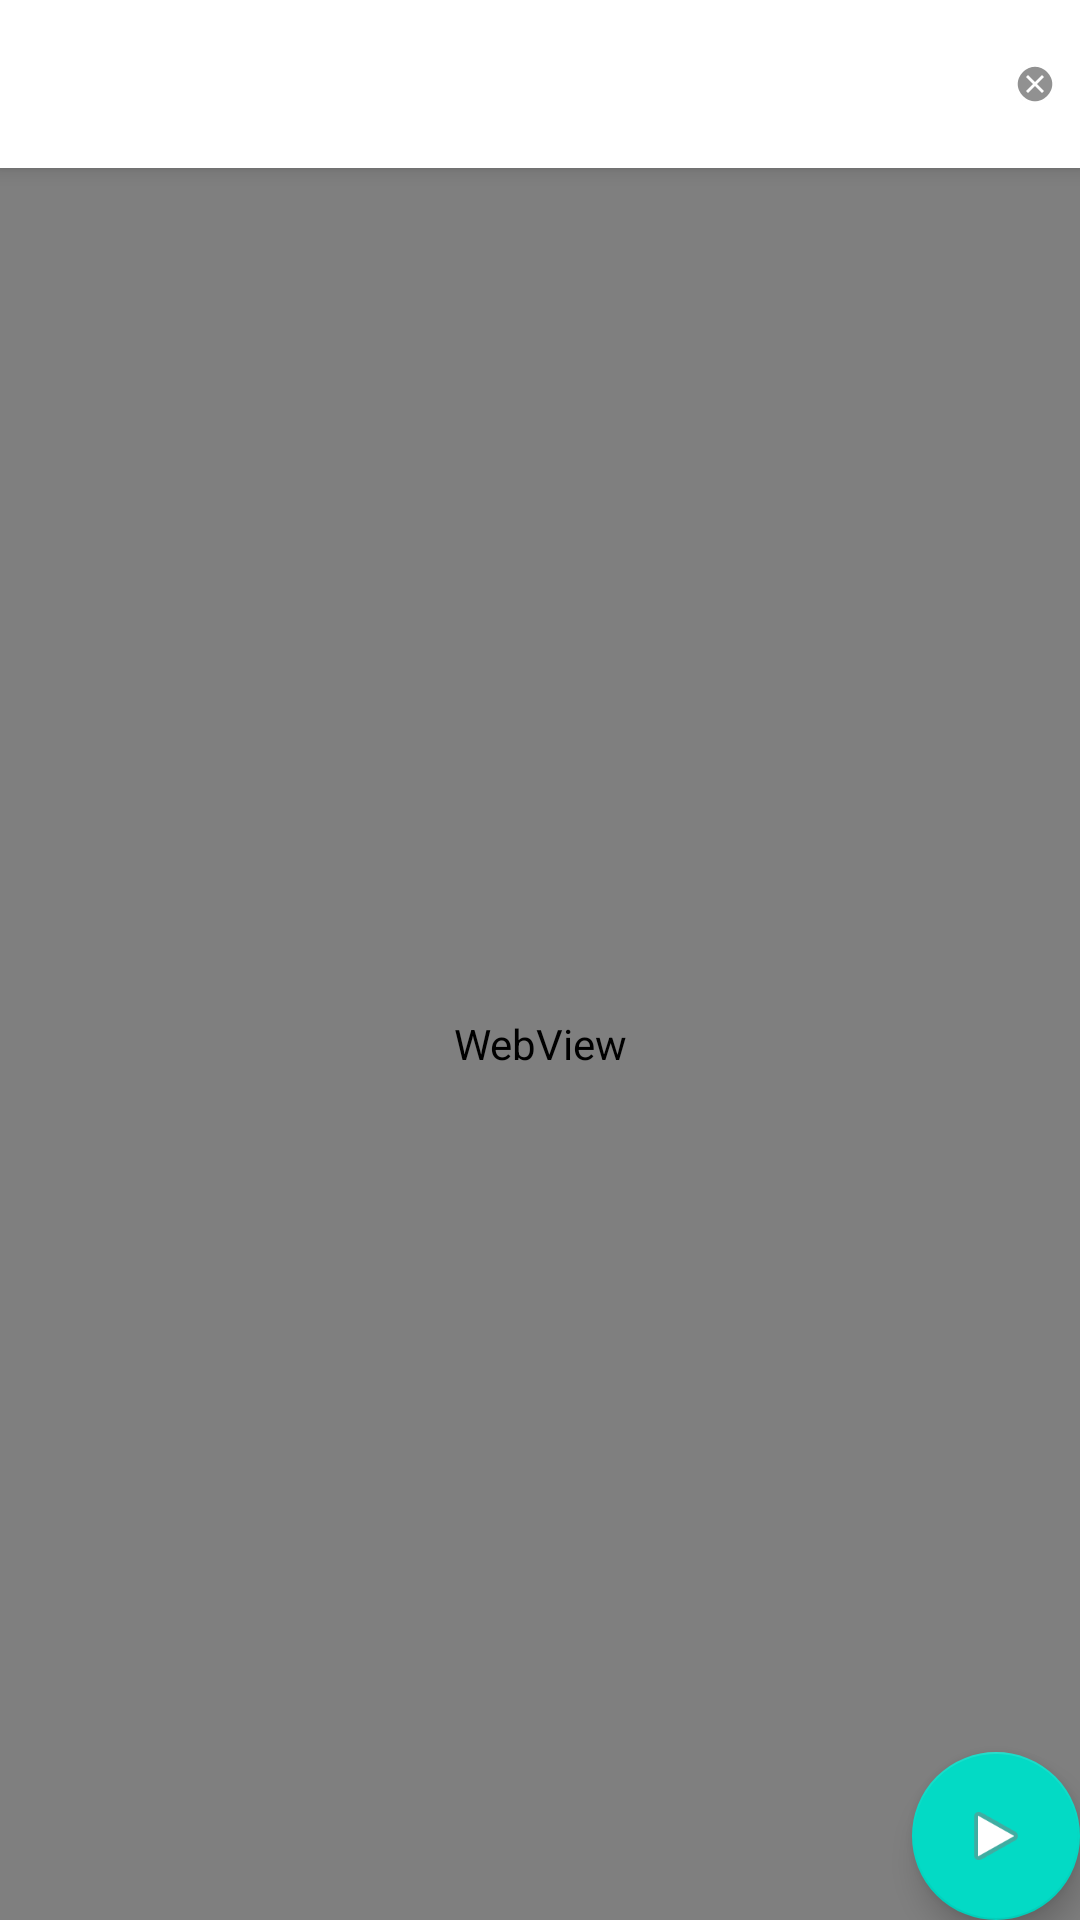

Screen size 1080*1920. Icon name, then its center in pixels as point (x, y):
play: point (996, 1836)
presence offline: point (1035, 84)
